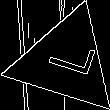L_W: (36, 39, 95, 84)
